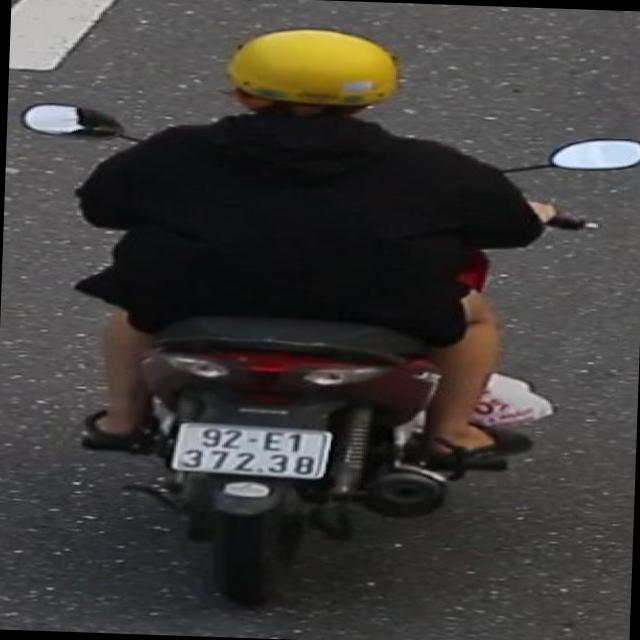LP: (169, 416, 341, 482)
helmet: (214, 22, 406, 134)
